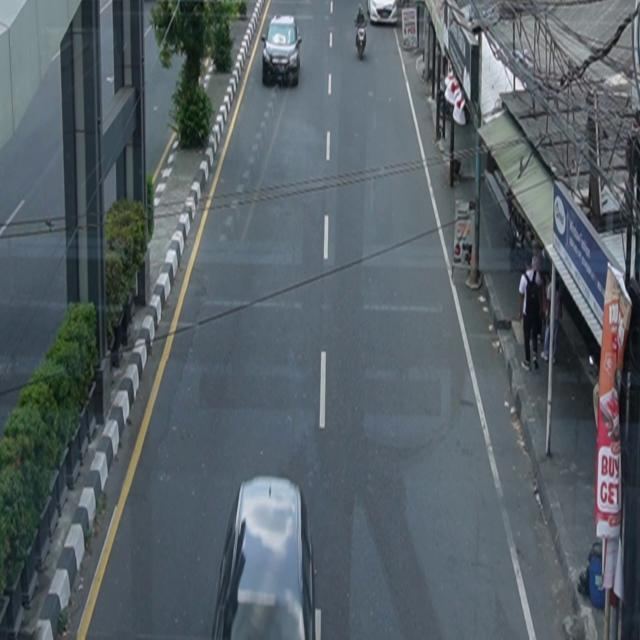car: (262, 14, 303, 88), (367, 1, 398, 26)
